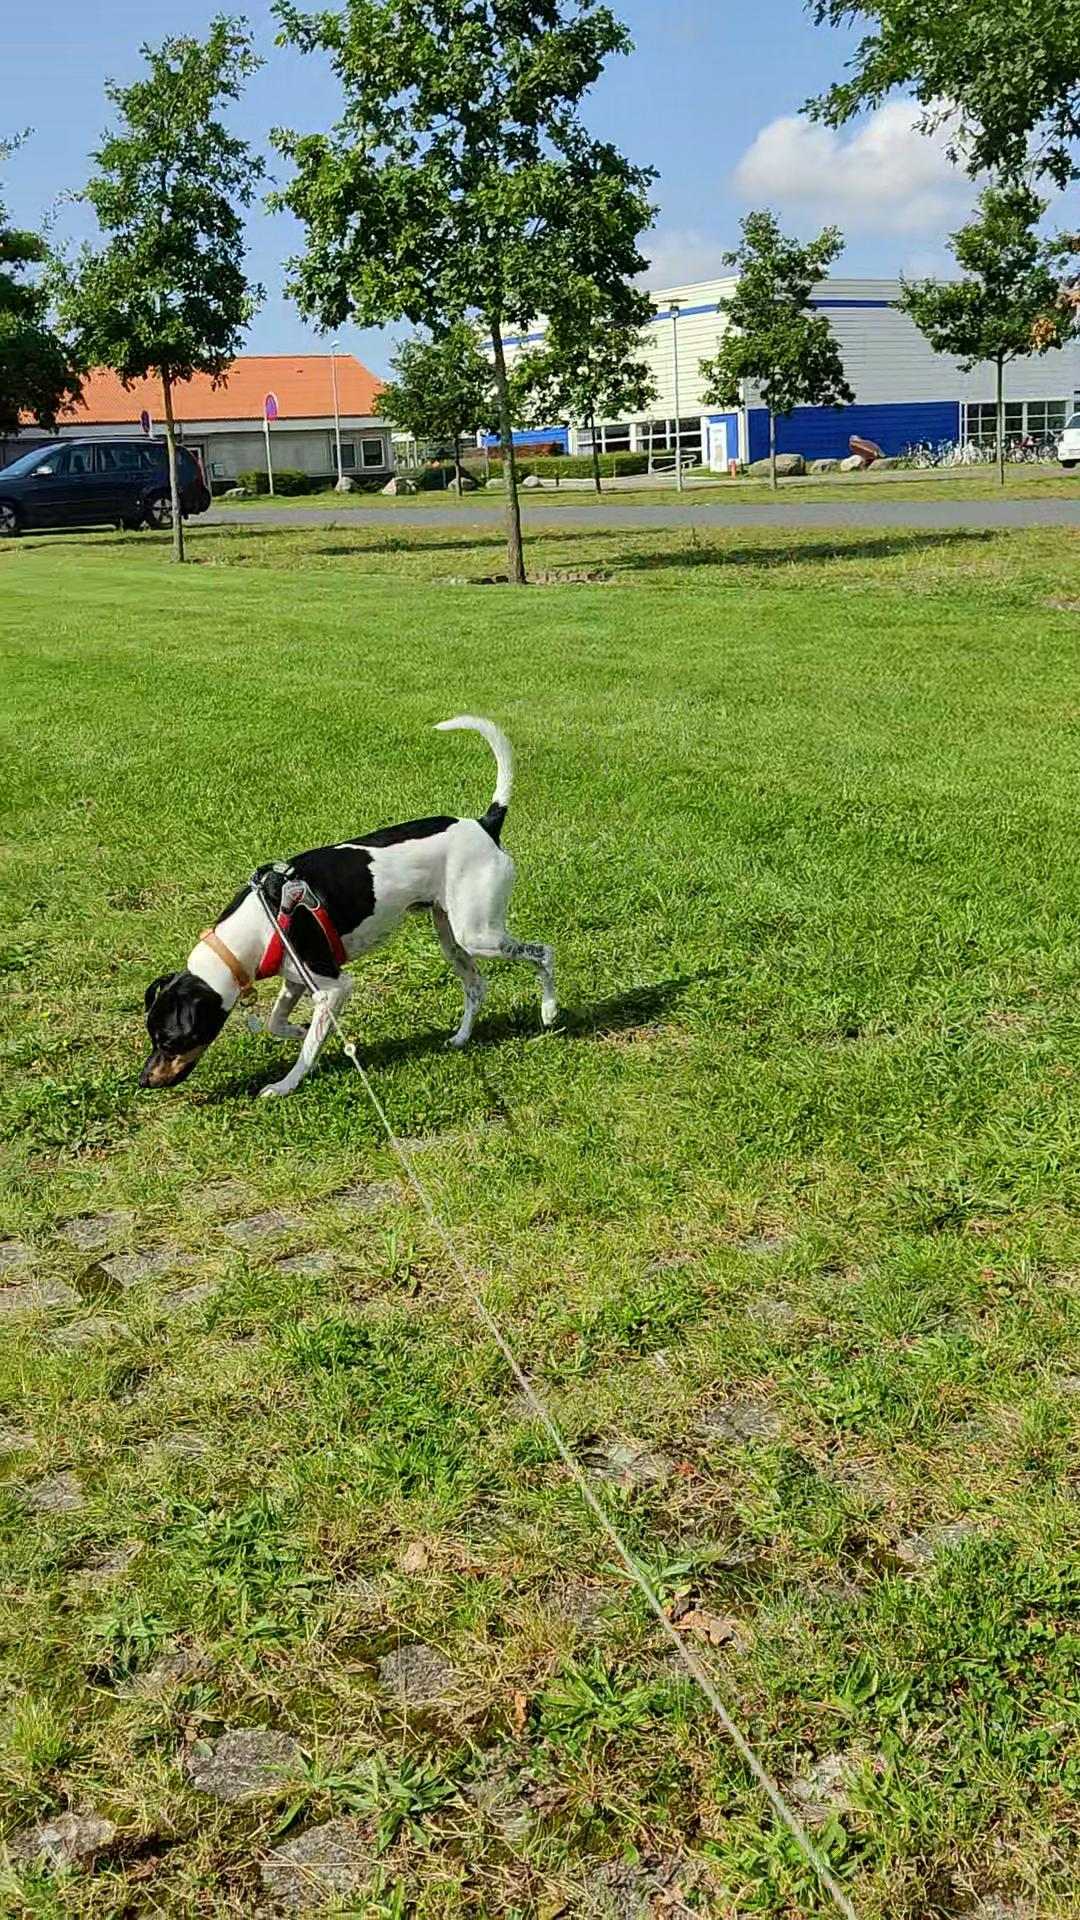Dog: (133, 707, 566, 1104)
